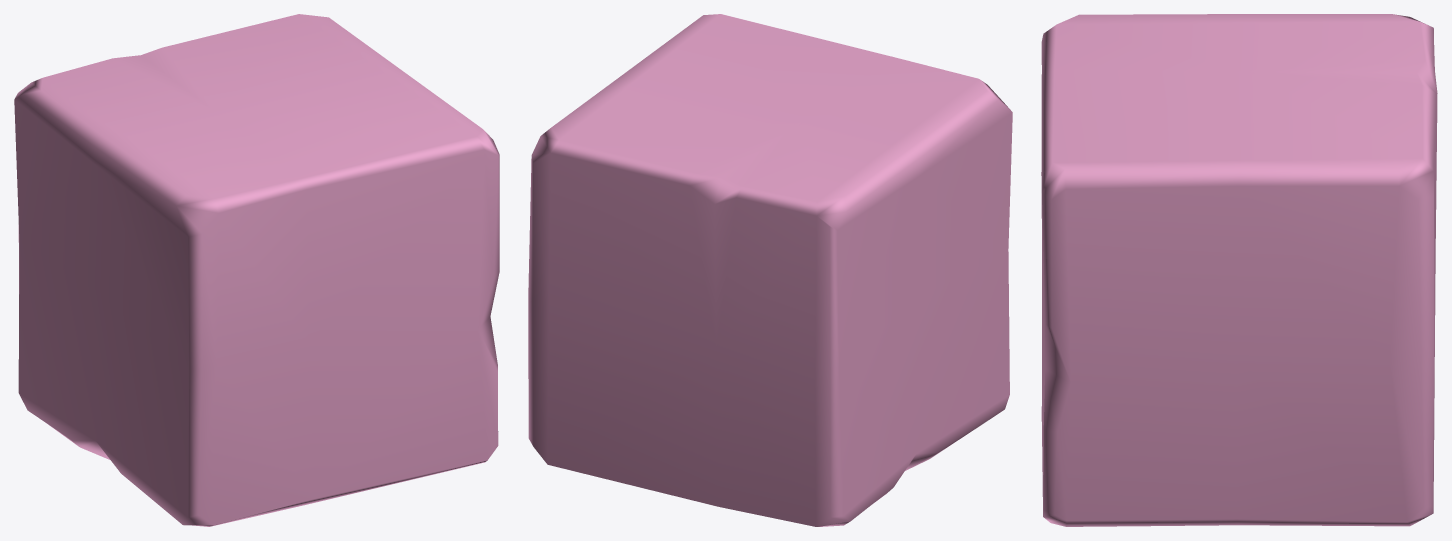
Rendered from StoneFloorCube.fbx.
The picture shows the model from 3 angles, left to right: view 1: azimuth 30°, elevation 25°; view 2: azimuth 150°, elevation 25°; view 3: azimuth 270°, elevation 25°; orthographic projection. The views are drawn at different scales.
Visible parts, largest first — view 1: StoneFloorCube_Low; view 2: StoneFloorCube_Low; view 3: StoneFloorCube_Low.
Boxes of the visible parts, bbox=[...] form: StoneFloorCube_Low: bbox=[14, 14, 499, 526]; StoneFloorCube_Low: bbox=[528, 14, 1012, 526]; StoneFloorCube_Low: bbox=[1041, 14, 1437, 526].
Bounding box in the file's own units: 102 × 101 × 102.
